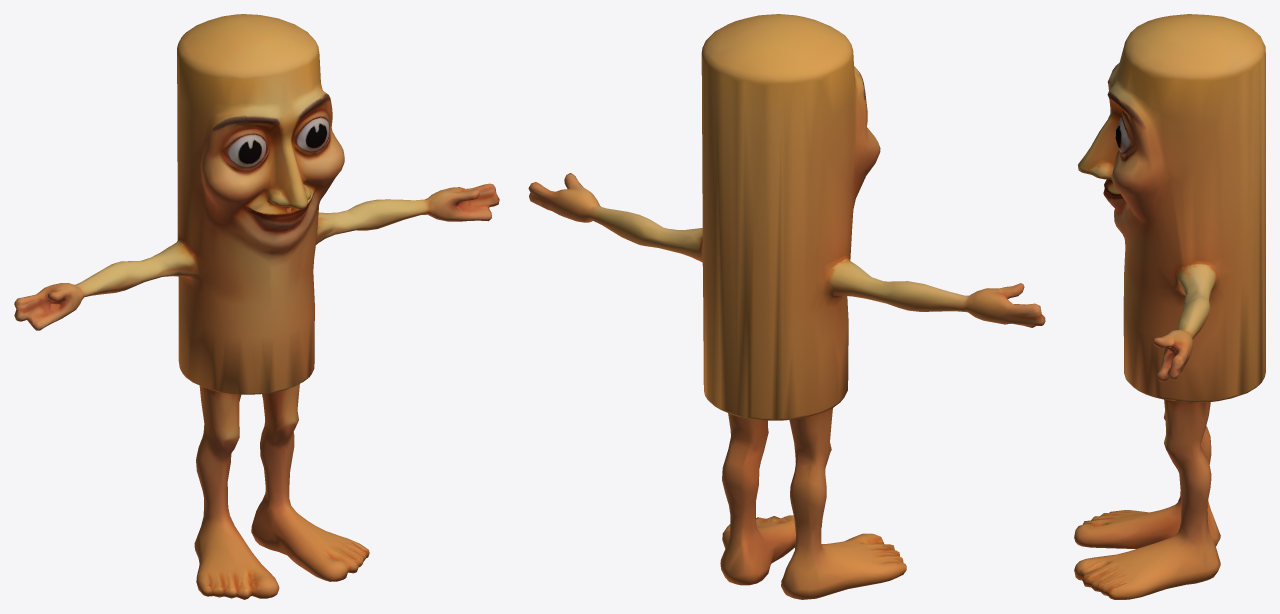
The model's file is StoreTungTung-tpose-rig-5k.glb.
3 views of the same model, side by side, from view 1: azimuth 30°, elevation 25°; view 2: azimuth 150°, elevation 25°; view 3: azimuth 270°, elevation 25° (orthographic). The views are drawn at different scales.
Visible parts, largest first — view 1: material; view 2: material; view 3: material.
Boxes of the visible parts, <box> form: material: <box>14,14,499,599</box>; material: <box>528,14,1045,599</box>; material: <box>1074,14,1265,599</box>.
Bounding box in the file's own units: 1.09 × 1.13 × 0.3655.
Materials: 1 (1 with a texture image).
